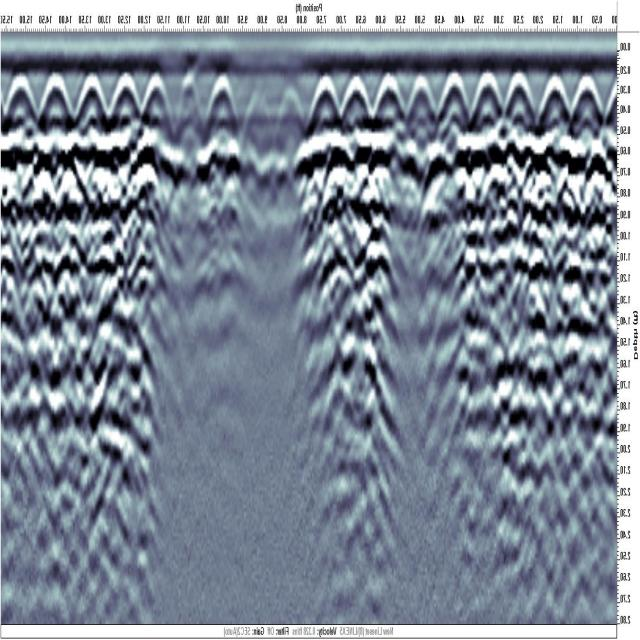hyperbola: (0, 65, 42, 133), (35, 67, 79, 131), (201, 68, 242, 136), (304, 66, 342, 134), (368, 68, 407, 134), (534, 70, 574, 134), (503, 64, 539, 135), (74, 68, 112, 132), (468, 66, 505, 131), (403, 67, 440, 131), (436, 66, 472, 131), (570, 68, 606, 131), (338, 72, 373, 134), (108, 69, 144, 128), (140, 72, 173, 129)
